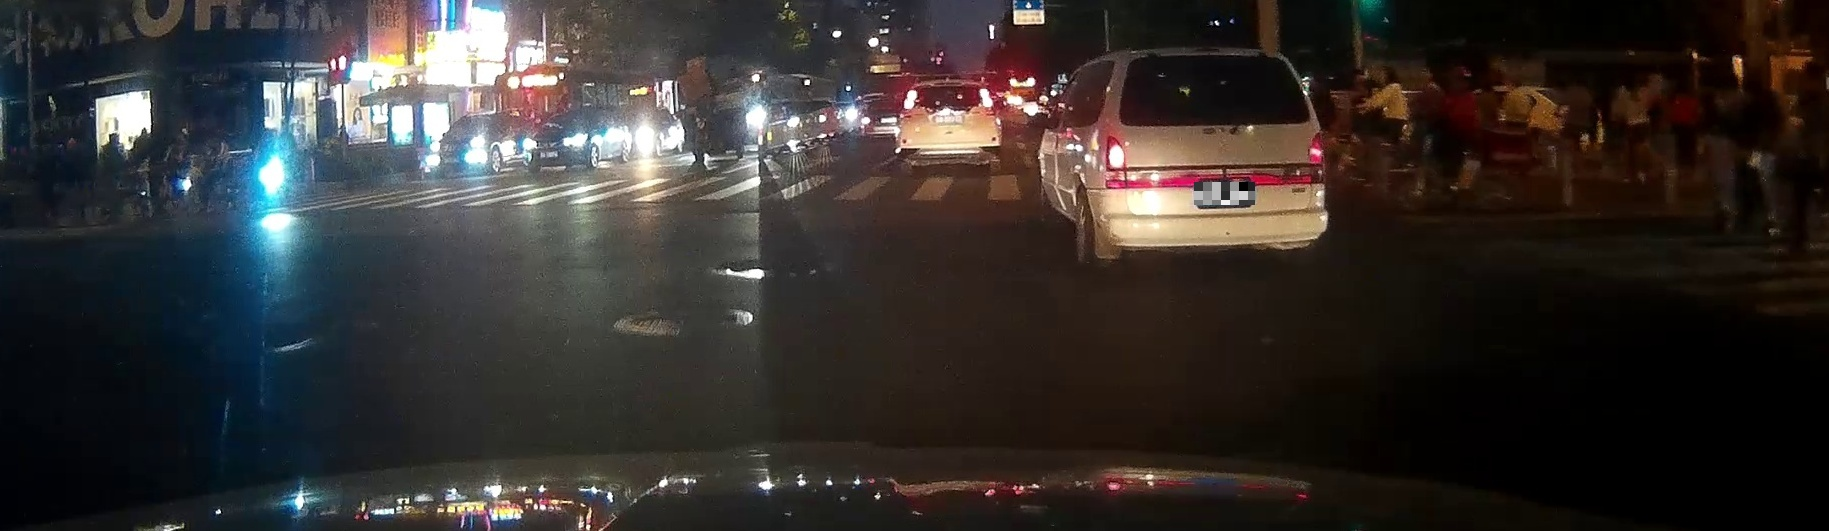L_light: (1105, 137, 1127, 190), (901, 89, 917, 117)
R_light: (1306, 130, 1326, 183), (979, 89, 996, 114)
T_light: (1194, 55, 1222, 64), (941, 85, 956, 91)
night-left: (1105, 47, 1327, 263)
night-no: (898, 79, 1002, 173)
plate_1: (1194, 182, 1255, 205)
